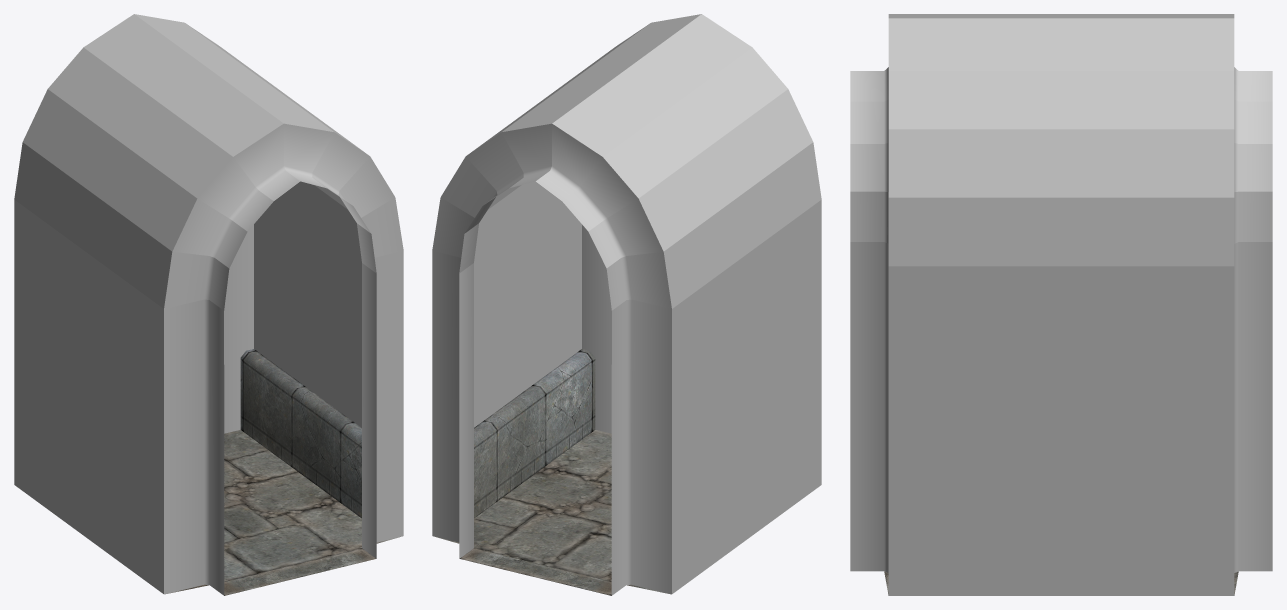
File: TunnelBigDoorway.FBX
3 views of the same model, side by side, from view 1: azimuth 30°, elevation 25°; view 2: azimuth 150°, elevation 25°; view 3: azimuth 270°, elevation 25° (orthographic). The views are drawn at different scales.
Visible parts, largest first — view 1: TunnelBigDoorway; view 2: TunnelBigDoorway; view 3: TunnelBigDoorway.
Boxes of the visible parts, <box> form: TunnelBigDoorway: <box>14,14,403,595</box>; TunnelBigDoorway: <box>432,14,821,595</box>; TunnelBigDoorway: <box>850,14,1272,595</box>.
Size of the model in its own units: 378 by 666 by 500.
